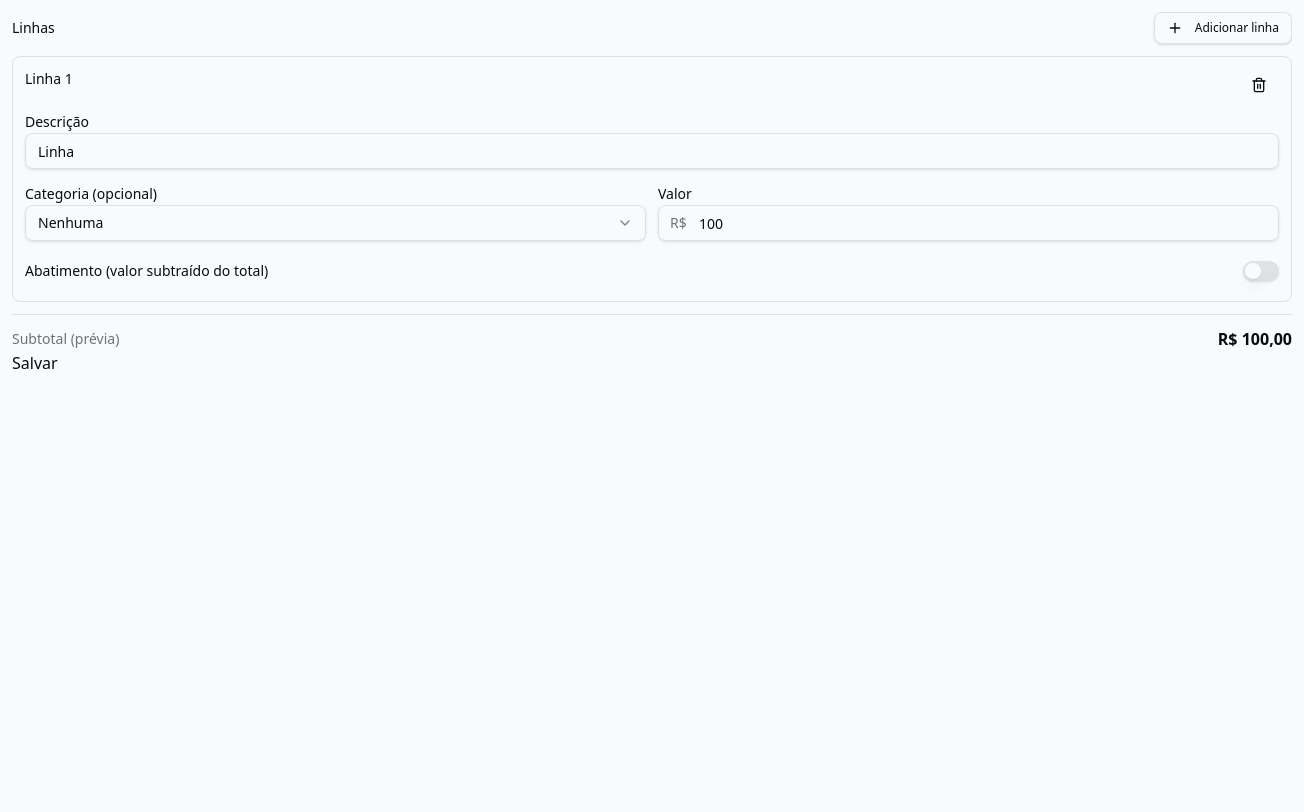
BillLineItemsField › renders the initial lines and appends/removes lines
expect the text "Linha 1" is shown: met, box [25,69,73,89]
Click the button "Adicionar linha" at (1223, 28), box [1154,12,1292,44]
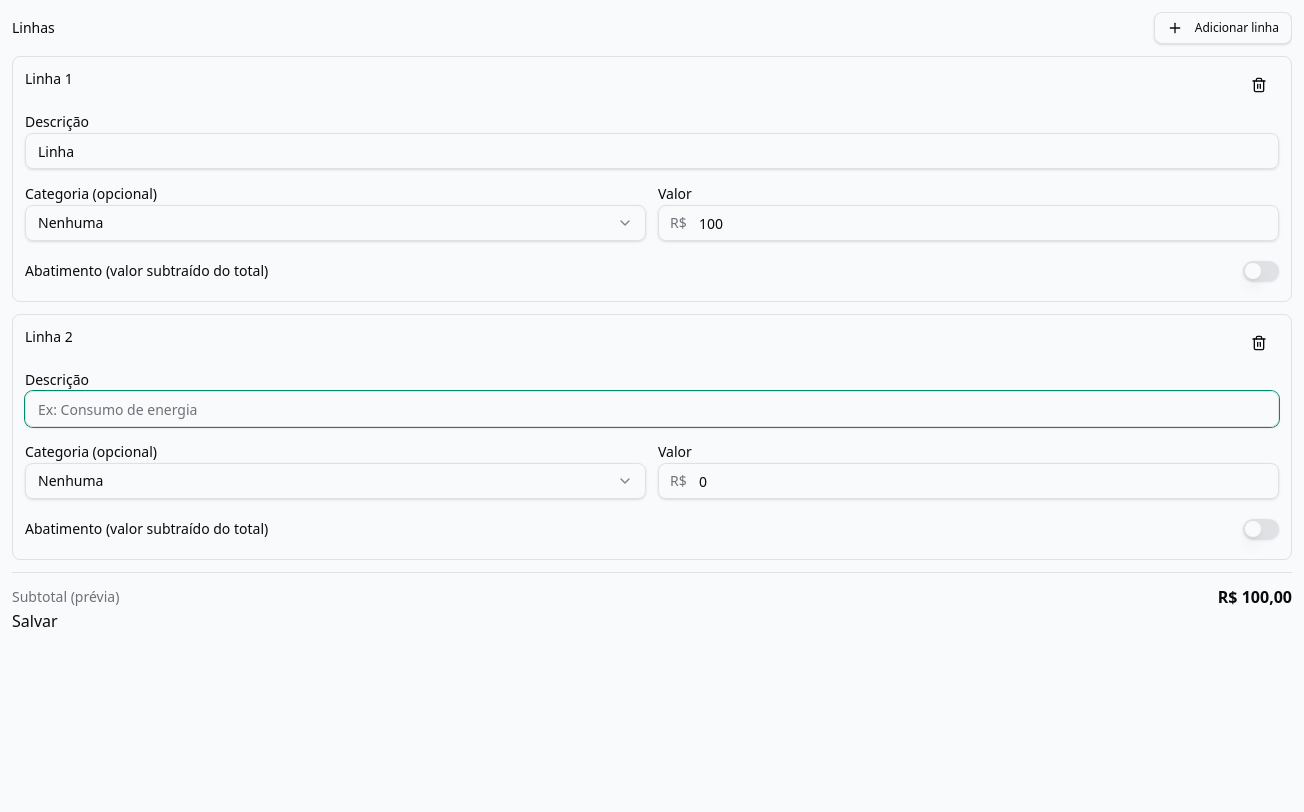
expect the text "Linha 2" is shown: met, box [25,327,73,347]
Click the button named "remover linha 2" at (1259, 343), box [1239,327,1279,359]
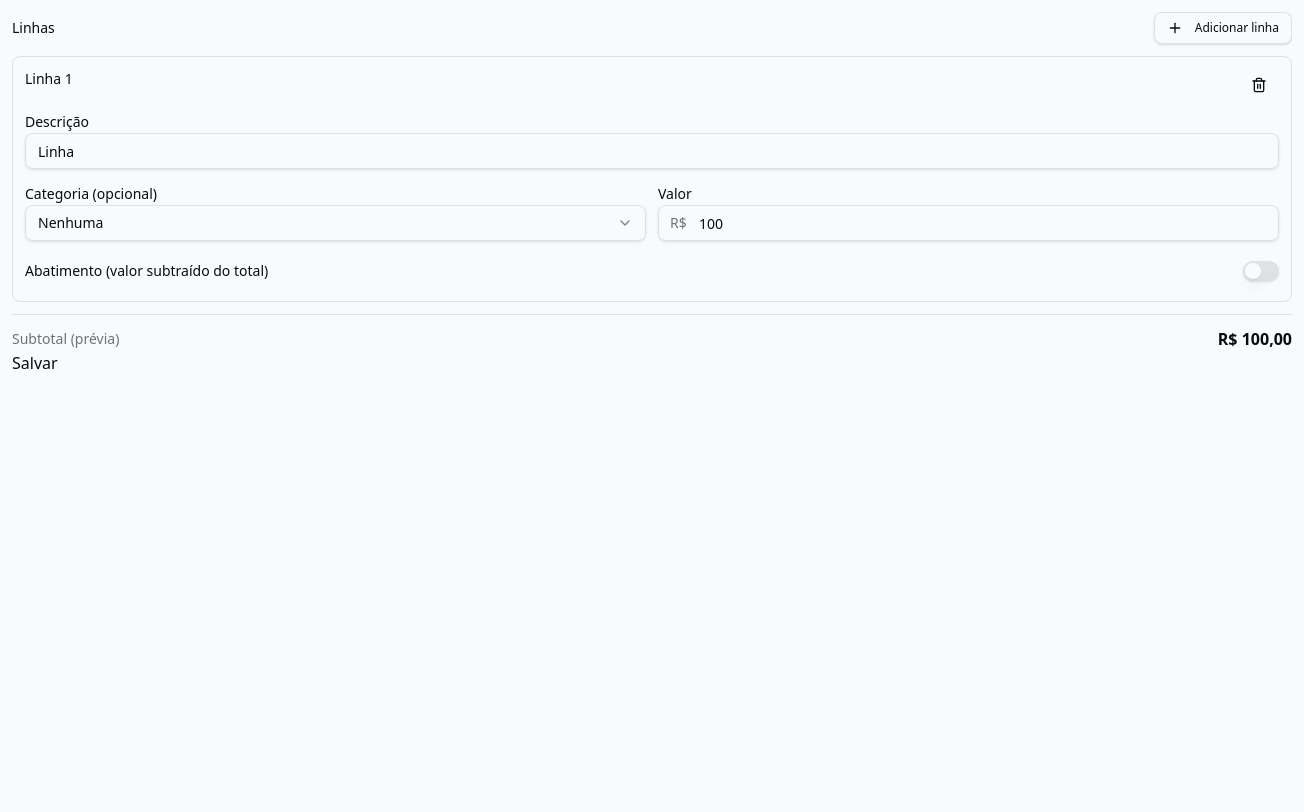
expect the text "Linha 2" is gone: met
